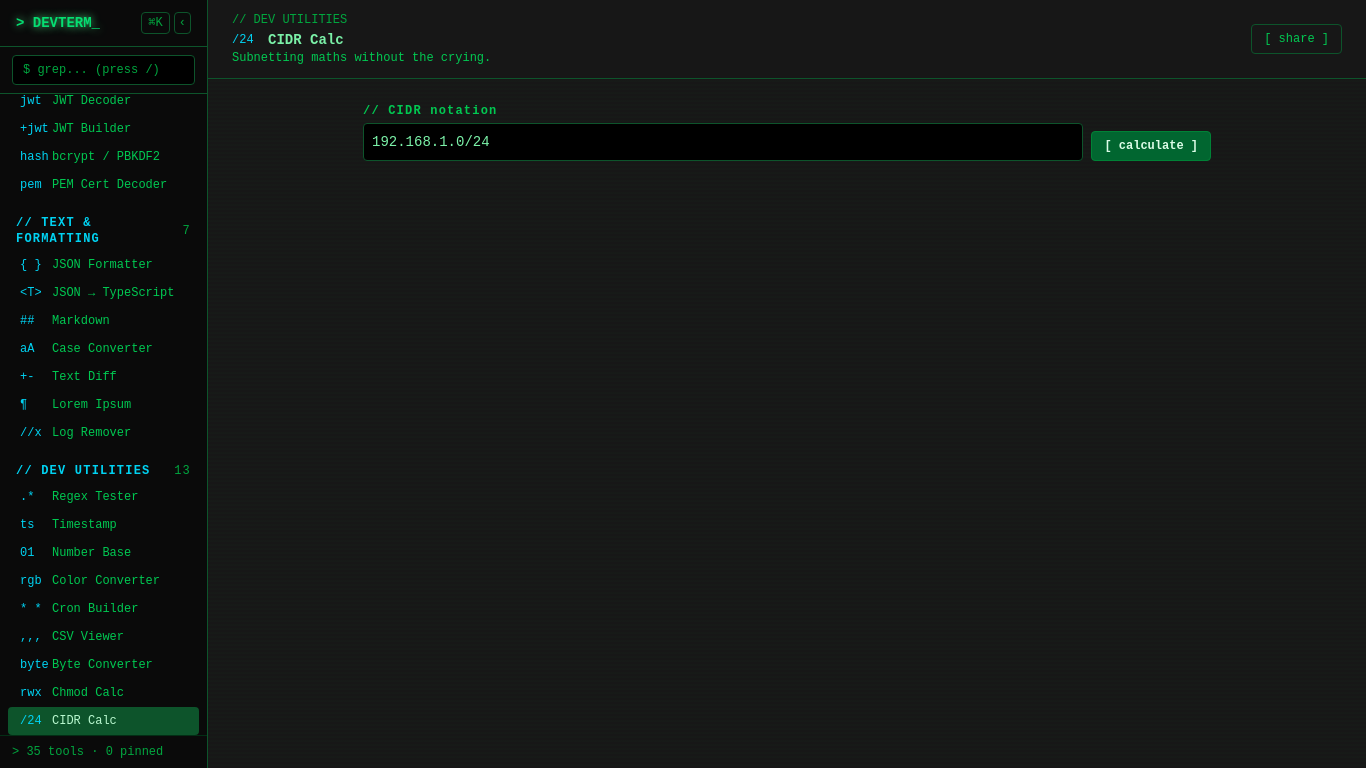
Test case: CIDR Calculator › shows error for invalid CIDR
The width and height of the screenshot is (1366, 768).
(page scrolled)
Expected: the element showing "// CIDR notation [ calculate ]" is shown, [363,103,1211,161]
Replace the text in the 2nd field with "not-a-cidr" at (723, 142), box [363,123,1083,161]
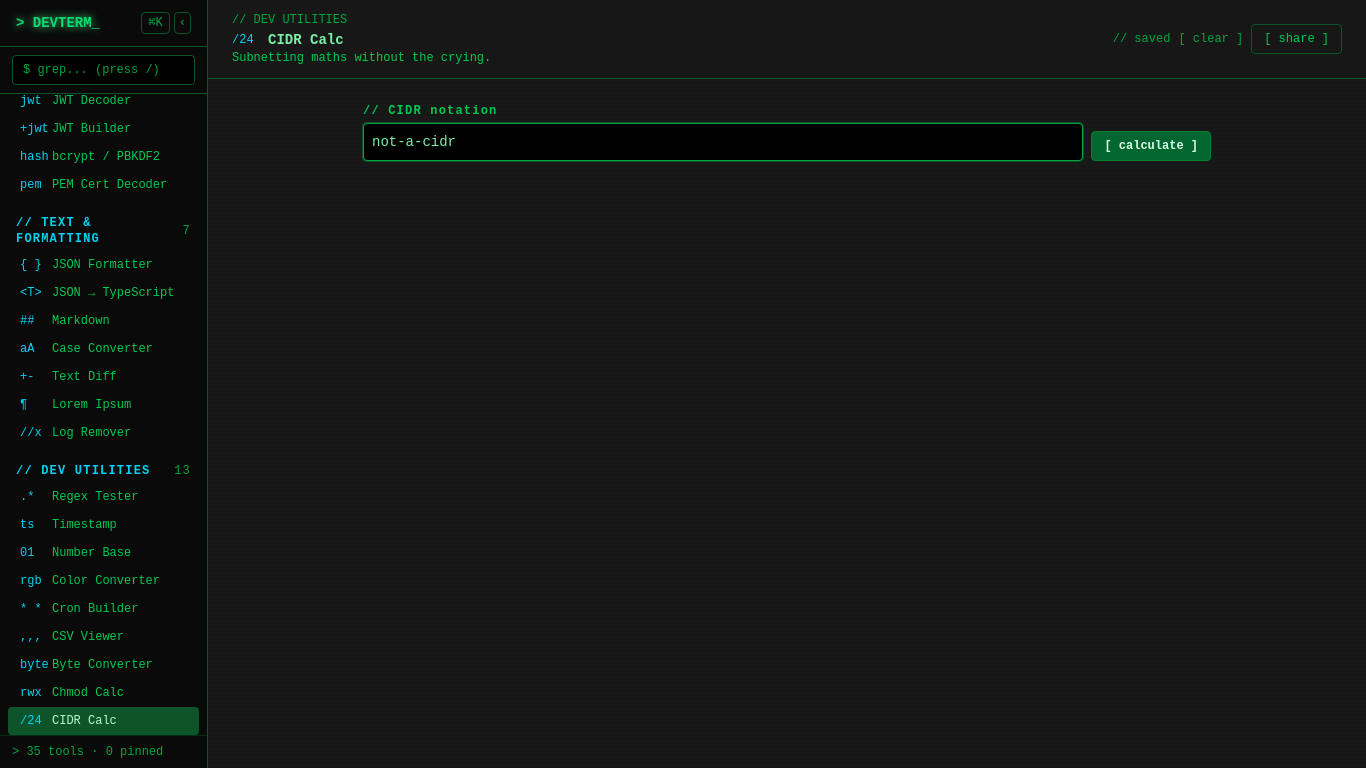
Click the button "[ calculate ]" at (1151, 146), box [1091,131,1211,161]
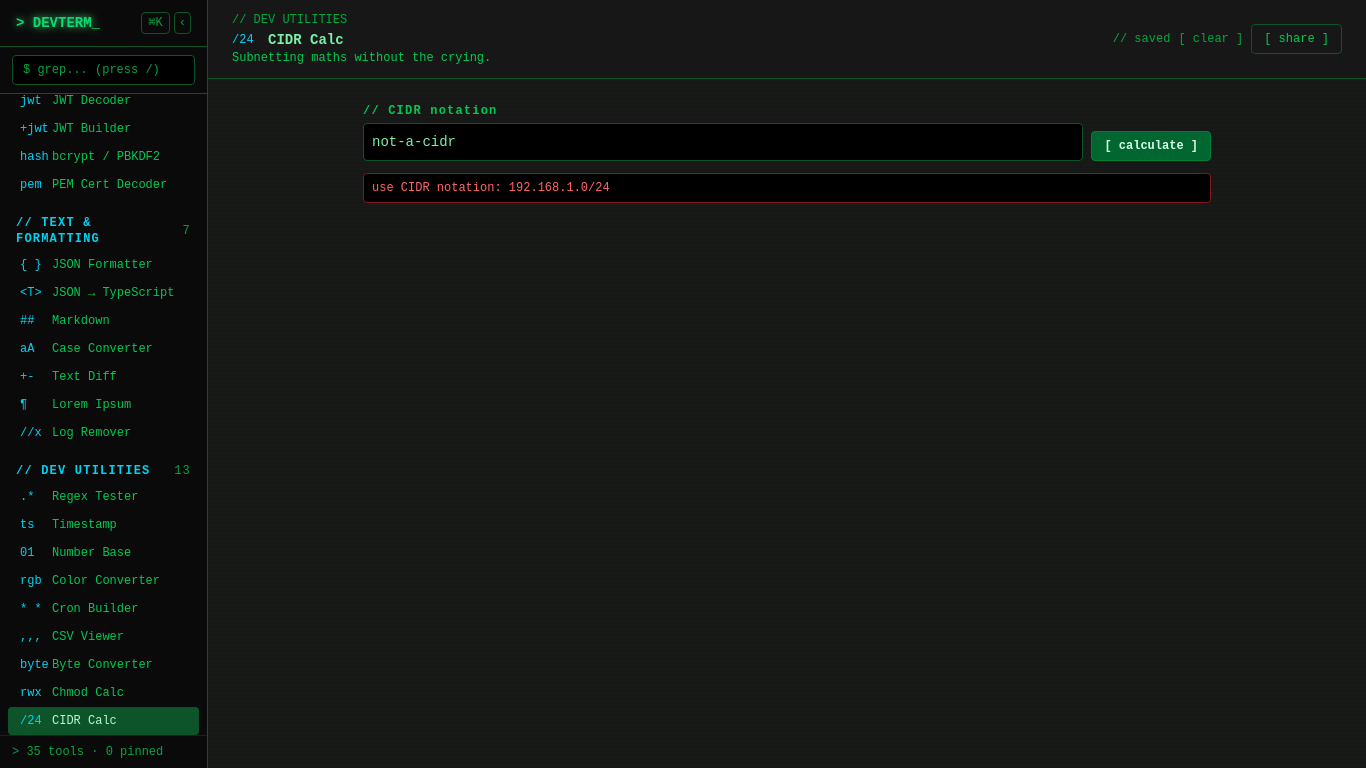
Expected: the text "use CIDR notation: 192.168.1.0/24" is shown, [363,173,1211,203]
